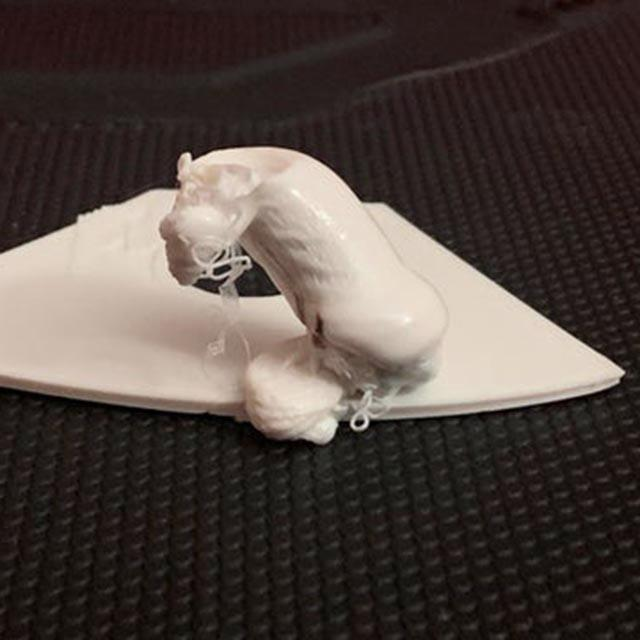Spaghetti: (191, 239, 254, 359), (318, 343, 378, 389), (350, 388, 391, 432)
